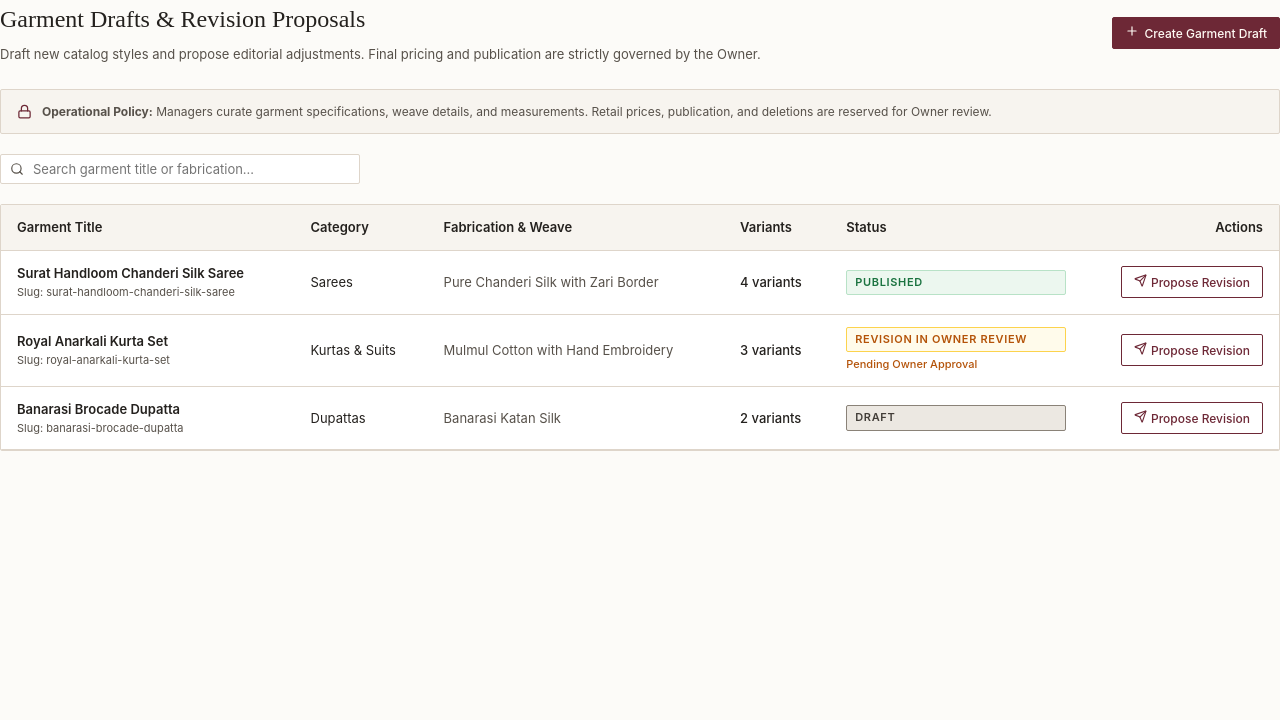
it: Component 14 — Owner and Manager Operational Dashboards › Manager Product Drafts without Price Controls › Manager draft form never renders price inputs, publish buttons, or delete buttons
Expected: the heading "Garment Drafts & Revision Proposals" is shown, [0,6,365,32]
Click the button "Create Garment Draft".
click(1196, 33)  # box [1112,17,1279,49]
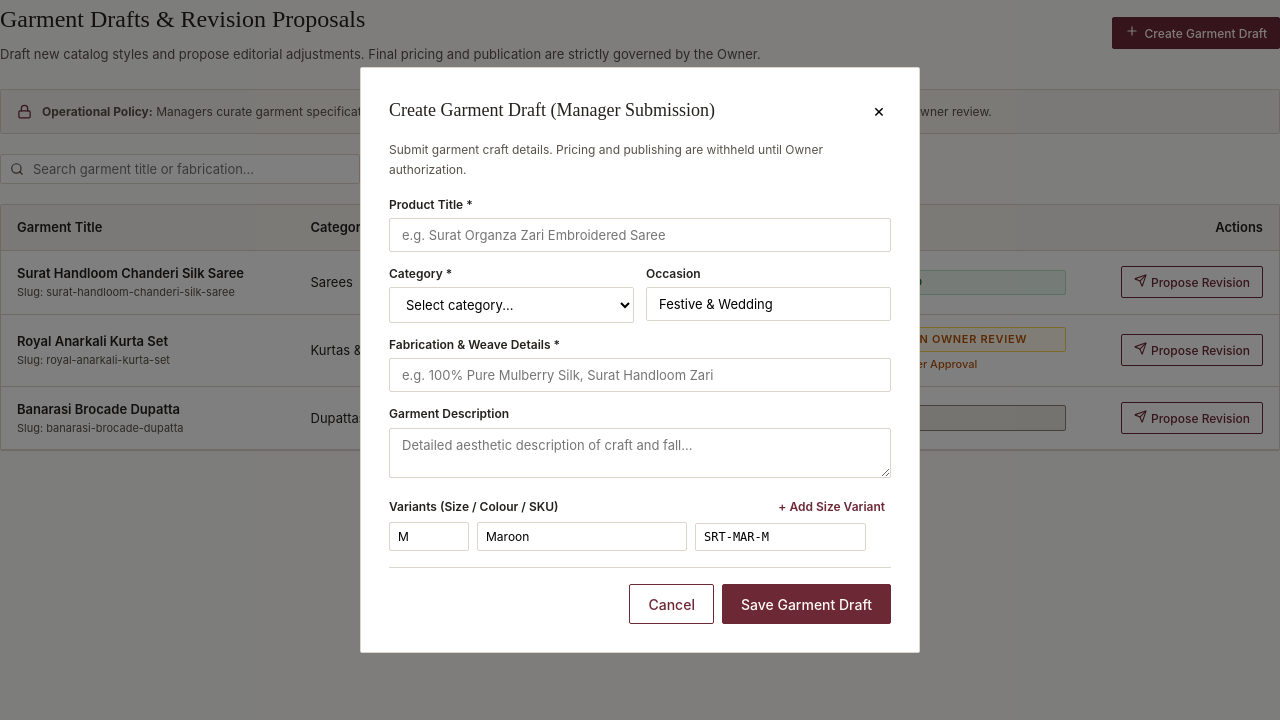
Expected: the heading "Create Garment Draft (Manager Submission)" is shown, [389,96,715,124]
